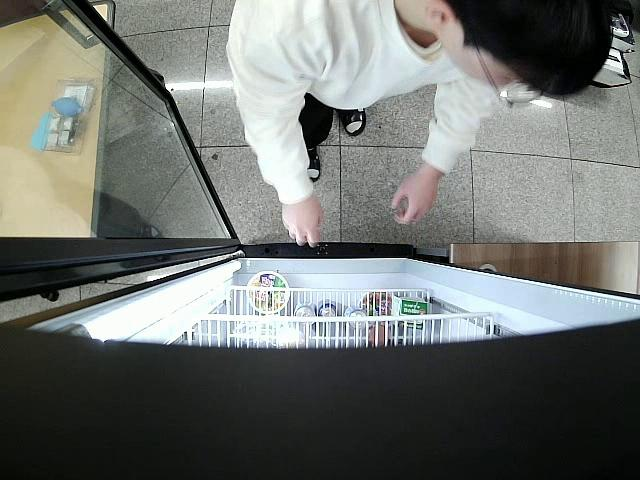00_hand: (390, 166, 439, 226), (281, 188, 325, 247)
